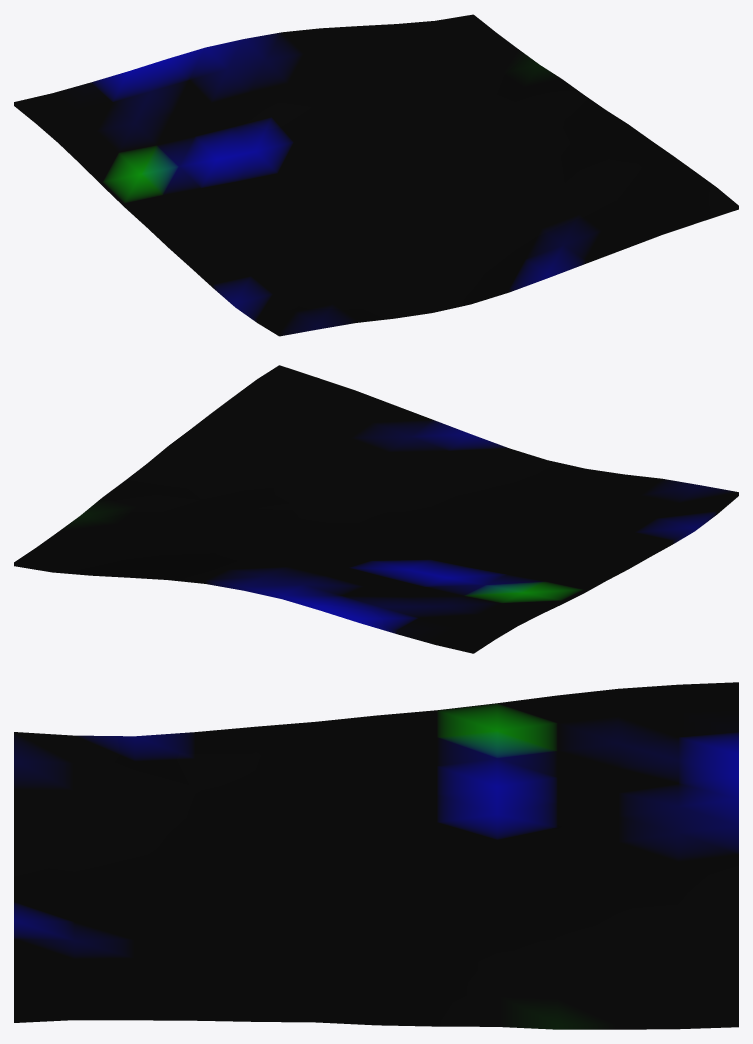
Rendered from coast_15_0.glb.
The picture shows the model from 3 angles, top to bottom: view 1: azimuth 30°, elevation 25°; view 2: azimuth 150°, elevation 25°; view 3: azimuth 270°, elevation 25°; orthographic projection. The views are drawn at different scales.
Parts seen in each view (by area): view 1: terrain; view 2: terrain; view 3: terrain.
Part boxes in pixels (<box>): terrain: <box>14,14,738,336</box>; terrain: <box>14,365,738,653</box>; terrain: <box>14,682,738,1029</box>.
Bounding box in the file's own units: 192 × 25.03 × 192.
